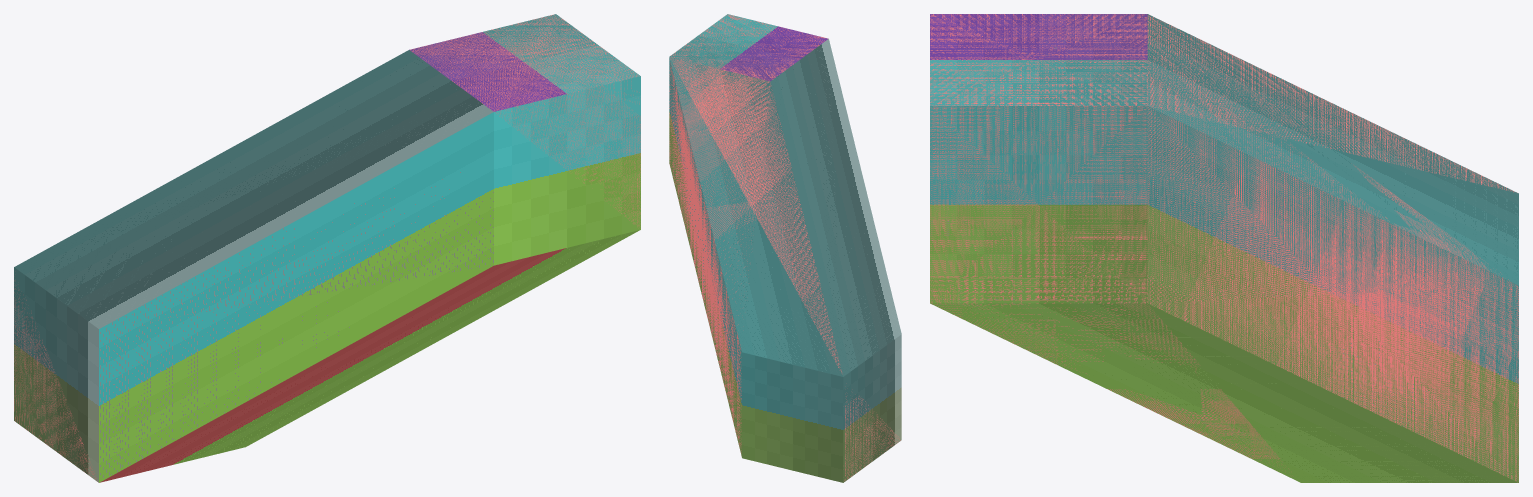
The model's file is crystal.glb.
3 renders of one model, left to right at view 1: azimuth 30°, elevation 25°; view 2: azimuth 150°, elevation 25°; view 3: azimuth 270°, elevation 25°, orthographic. The views are drawn at different scales.
Parts seen in each view (by area): view 1: Cube; view 2: Cube; view 3: Cube.
Part boxes in pixels (x1,y1,x2,y2): Cube: [14, 14, 640, 482]; Cube: [669, 14, 901, 482]; Cube: [930, 14, 1518, 482].
Size of the model in its own units: 5.41 by 5.41 by 5.41.
1 material, 1 textured.
